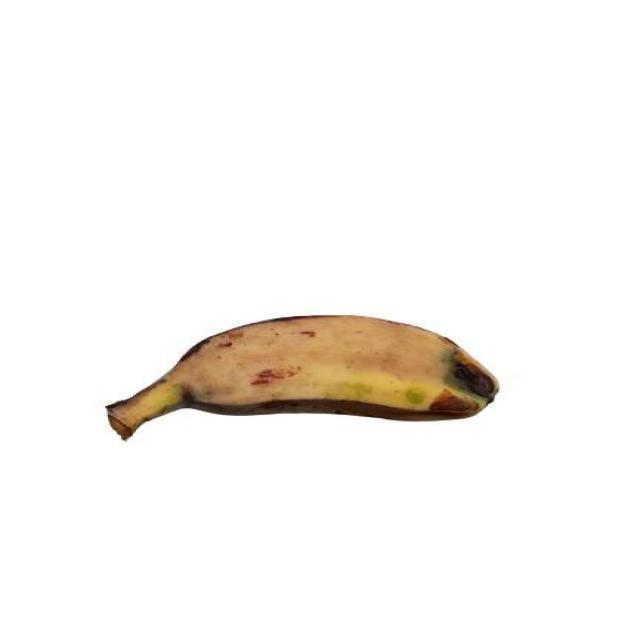Banana: (99, 305, 503, 444)
